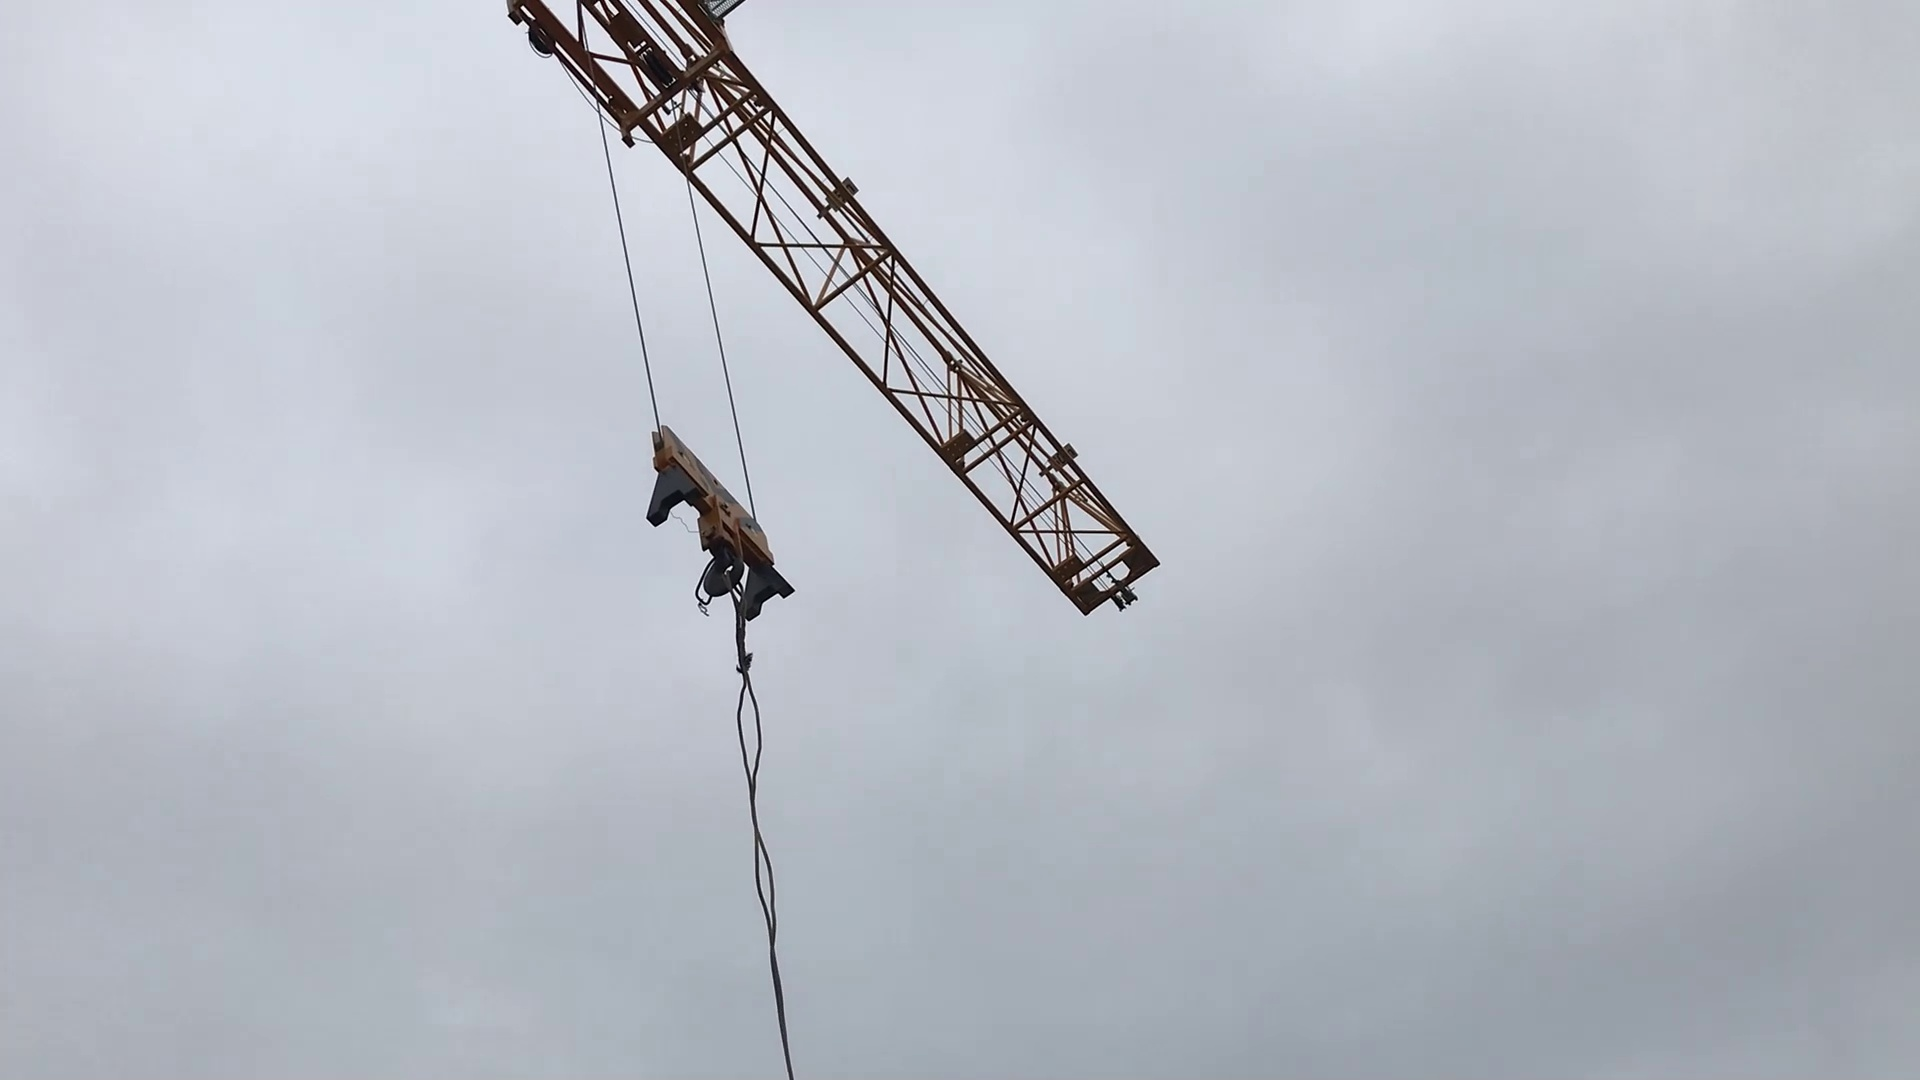hook: (604, 404, 804, 679)
